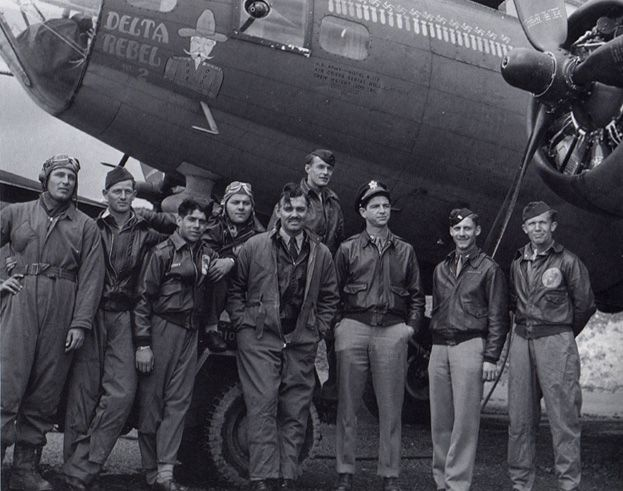bad: (45, 162, 81, 198), (221, 186, 257, 222), (277, 198, 313, 234), (177, 206, 213, 242)
